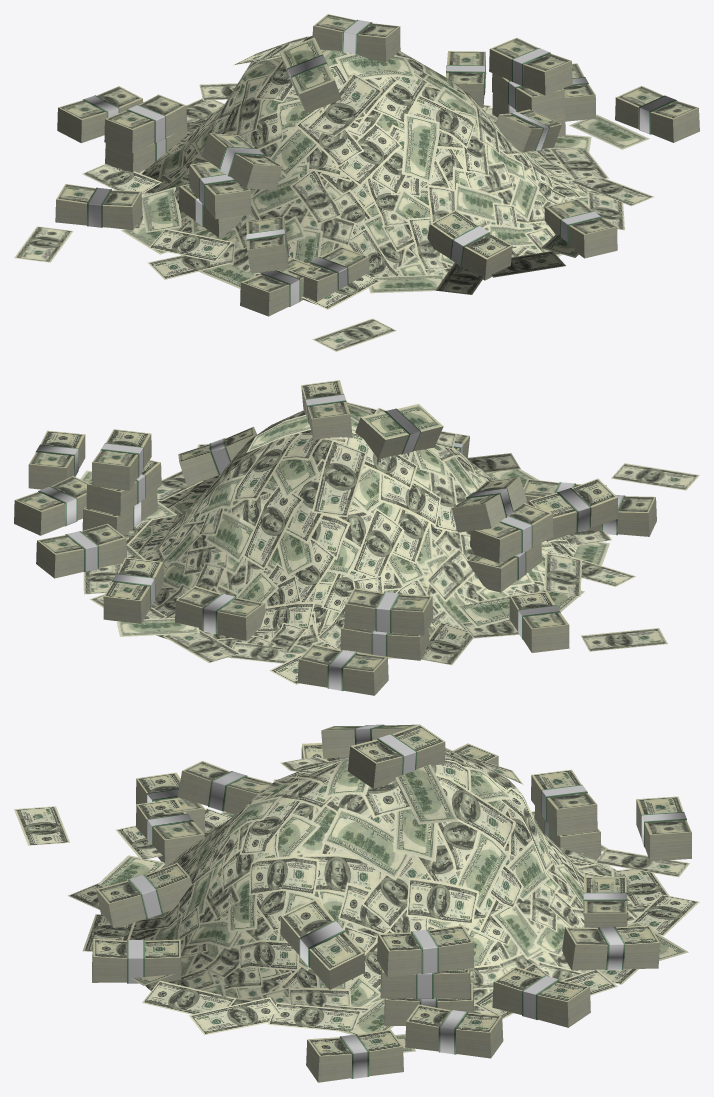
File: cash.glb
The picture shows the model from 3 angles, top to bottom: view 1: azimuth 30°, elevation 25°; view 2: azimuth 150°, elevation 25°; view 3: azimuth 270°, elevation 25°; orthographic projection. The views are drawn at different scales.
Visible parts, largest first — view 1: cashpile_04; view 2: cashpile_04; view 3: cashpile_04.
Part boxes in pixels (x1,y1,x2,y2): cashpile_04: (14, 14, 699, 351); cashpile_04: (14, 380, 699, 695); cashpile_04: (14, 724, 699, 1082).
Size of the model in its own units: 1.45 by 0.3442 by 1.2.
2 materials, 2 textured.
